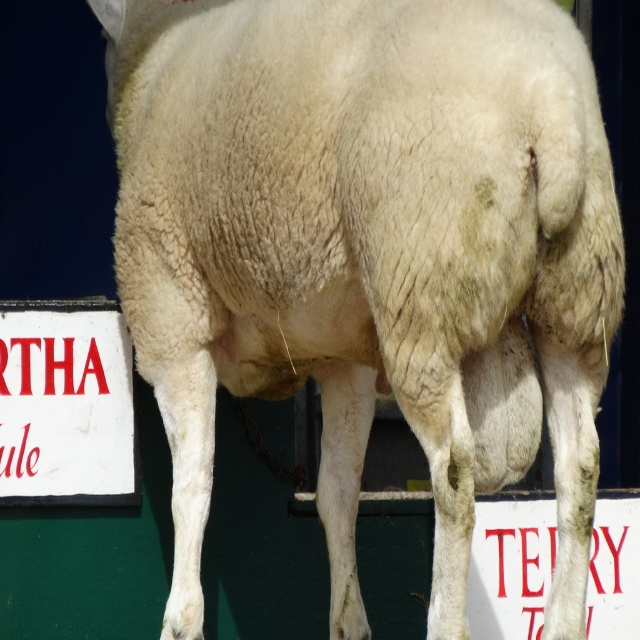Sheep: (107, 0, 640, 640)
